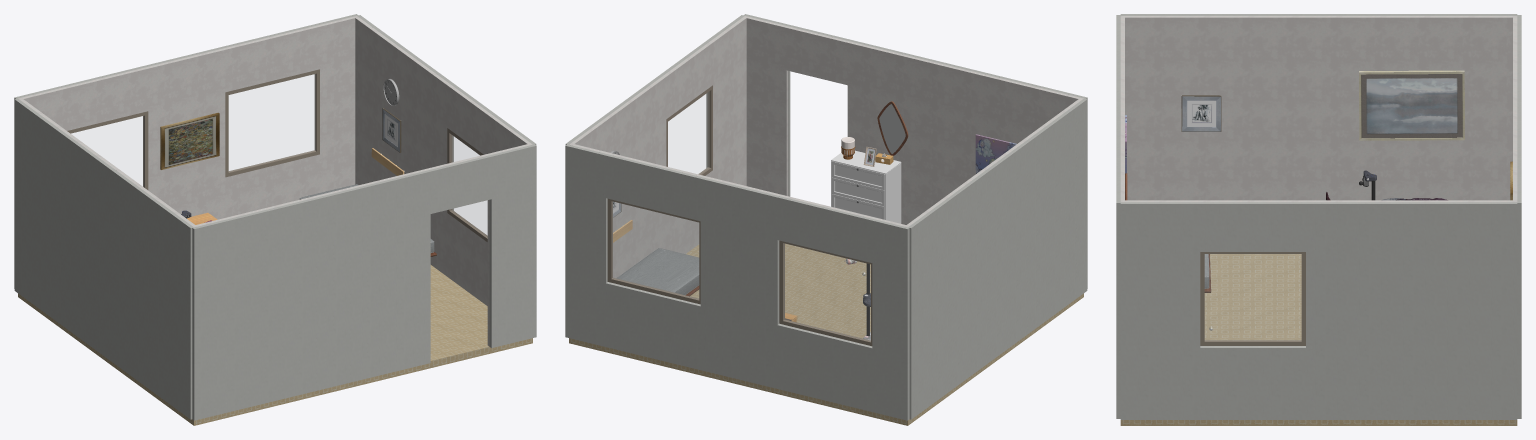
3 renders of one model, left to right at view 1: azimuth 30°, elevation 25°; view 2: azimuth 150°, elevation 25°; view 3: azimuth 270°, elevation 25°, orthographic. The views are drawn at different scales.
Parts seen in each view (by area): view 1: world (×9), glass (×3), room_geometry_bedroom__v0, frame (×3), mig_00wood.001; view 2: world (×10), glass (×3), room_geometry_bedroom__v0, frame (×3), P_2fd1f4982963c354.001, P_779afc3812688354.001, P_ee6e97b011058d54.001, Shader1, P_8fc12e17d7c19c39.001; view 3: world (×9), room_geometry_bedroom__v0, glass, Rug.001, frame.
Boxes of the visible parts, left/top/right/bottom form: world (×9): left=14, top=14, right=536, bottom=420; glass (×3): left=72, top=74, right=487, bottom=235; room_geometry_bedroom__v0: left=18, top=265, right=532, bottom=425; frame (×3): left=67, top=69, right=487, bottom=241; mig_00wood.001: left=160, top=112, right=219, bottom=169; world (×10): left=565, top=14, right=1087, bottom=420; glass (×3): left=612, top=92, right=870, bottom=341; room_geometry_bedroom__v0: left=569, top=243, right=1083, bottom=425; frame (×3): left=607, top=85, right=872, bottom=346; P_2fd1f4982963c354.001: left=831, top=150, right=901, bottom=223; P_779afc3812688354.001: left=832, top=161, right=884, bottom=190; P_ee6e97b011058d54.001: left=832, top=177, right=884, bottom=206; Shader1: left=975, top=134, right=1016, bottom=173; P_8fc12e17d7c19c39.001: left=832, top=194, right=884, bottom=219; world (×9): left=1116, top=14, right=1521, bottom=419; room_geometry_bedroom__v0: left=1120, top=254, right=1517, bottom=425; glass: left=1205, top=254, right=1301, bottom=340; Rug.001: left=1359, top=70, right=1464, bottom=140; frame: left=1200, top=252, right=1305, bottom=345.
Bounding box in the file's own units: 5.1 × 2.8 × 4.6.
Materials: 46 (20 with a texture image).
